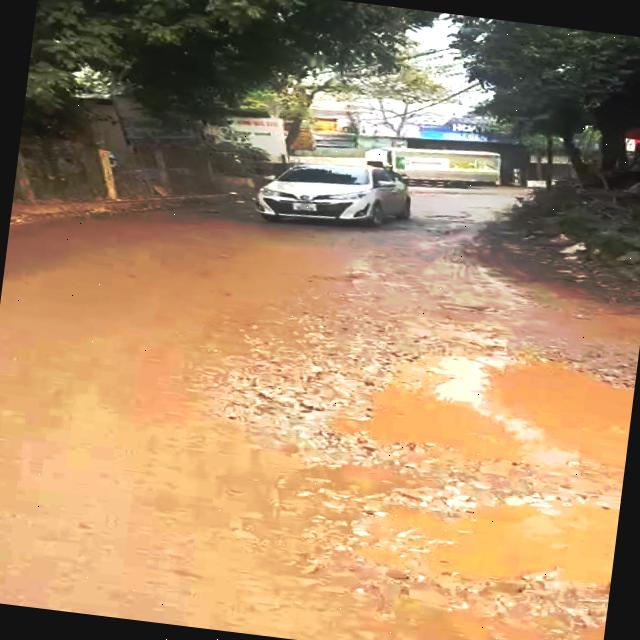pothole: (218, 299, 639, 633)
